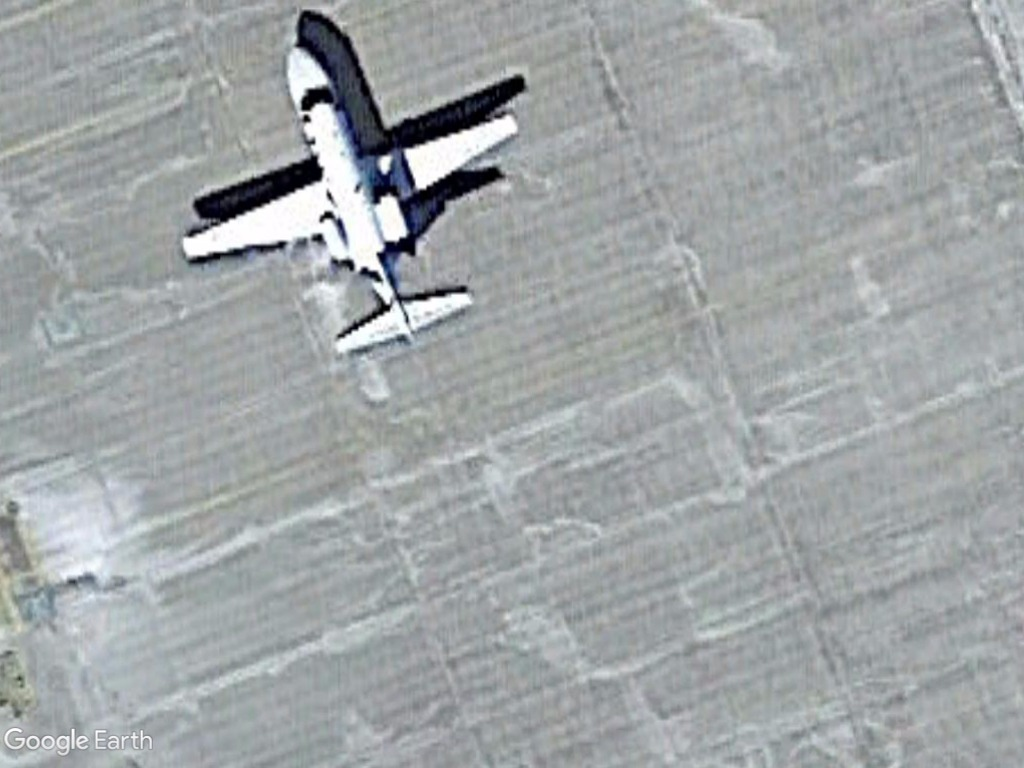chartered: (182, 42, 533, 368)
